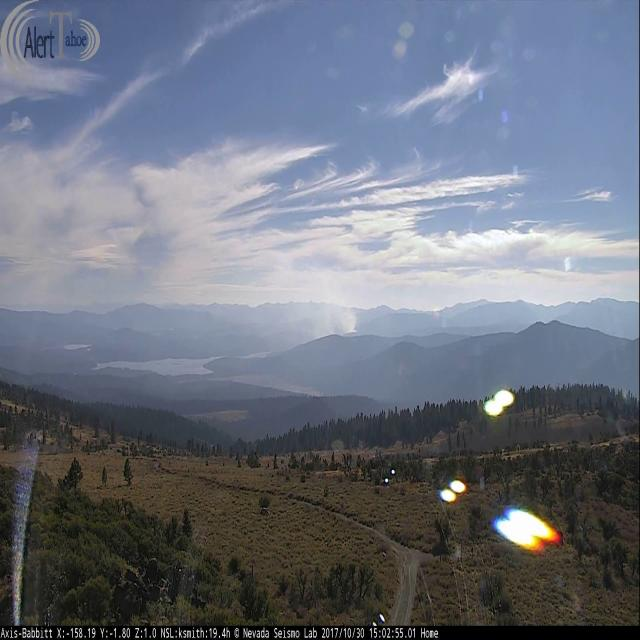smoke: (208, 256, 357, 338)
